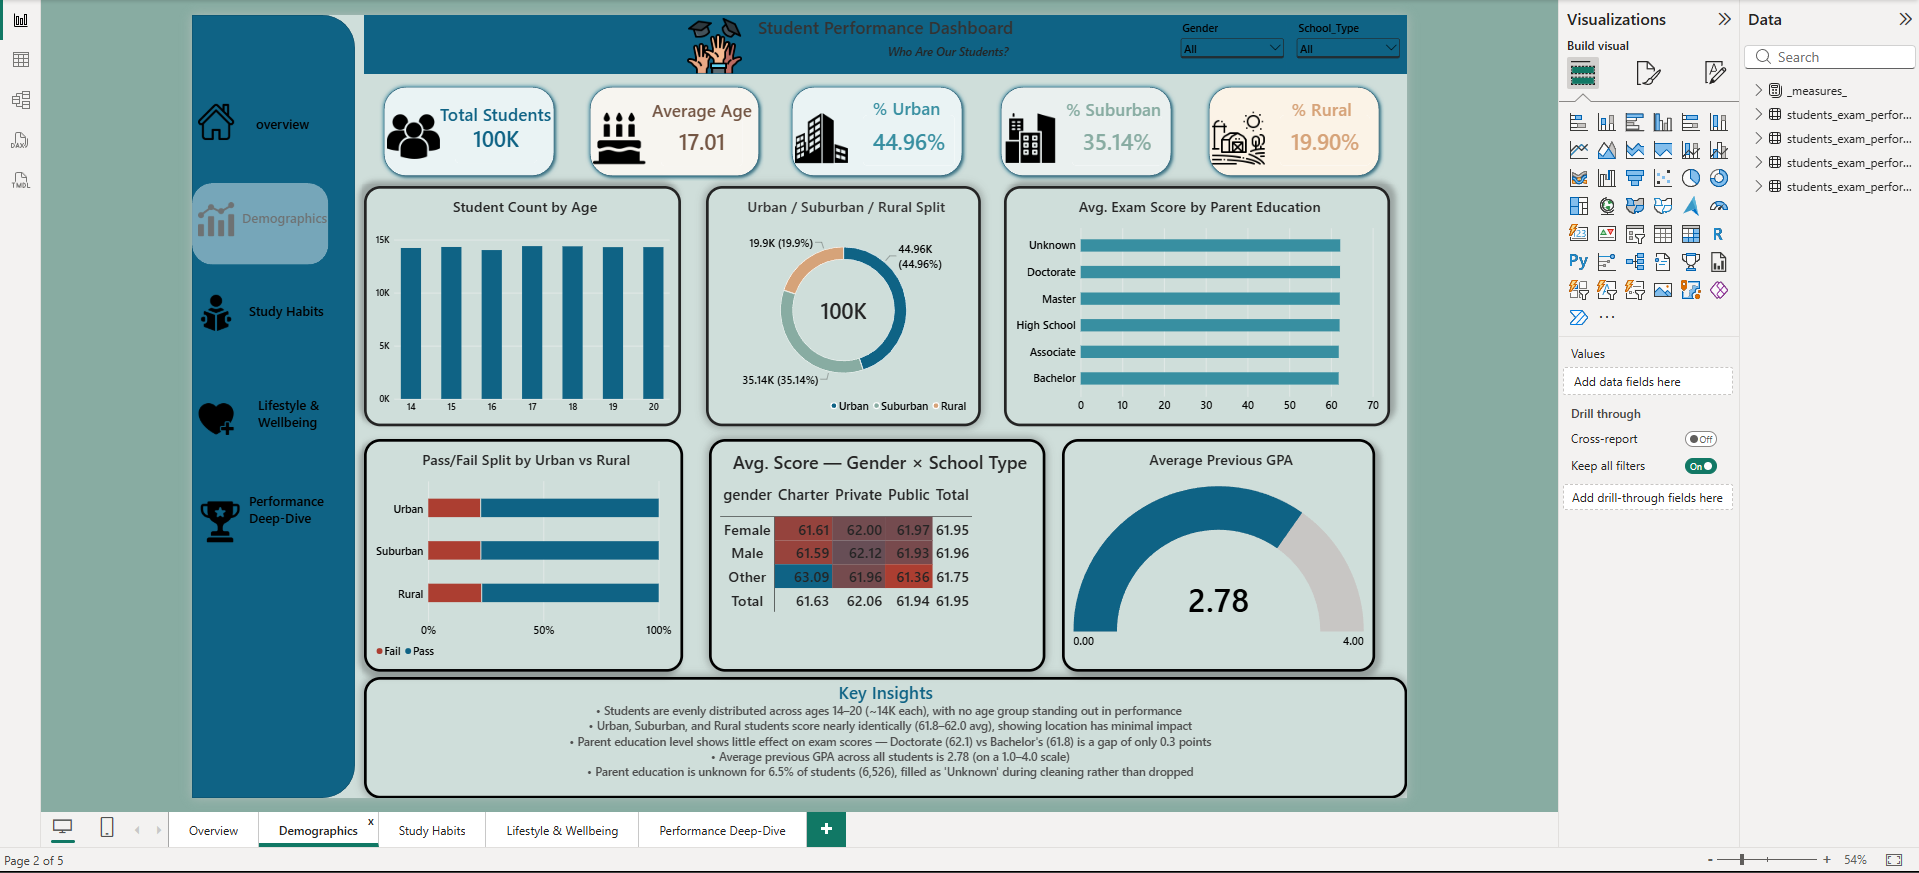

This screenshot's page, from the dashboard's own definition file:
{"tool":"powerbi","page":{"name":"Demographics","canvas":[2250,1450],"ordinal":1},"visuals":[{"type":"shape","box":[0,0,301.7,1450],"z":0,"group":"g1"},{"type":"group","id":"g1","title":"Group 2","box":[0,0,301.7,1450],"z":0,"group":"g8"},{"type":"group","id":"g2","title":"Group 5","box":[318.5,0,1932.3,109.2],"z":0,"group":"g11"},{"type":"image","box":[908.7,3.4,117,105.9],"z":0,"group":"g9"},{"type":"textbox","box":[1157.4,53.9,485.4,48.5],"z":0,"group":"g2"},{"type":"group","id":"g3","title":"Group 7","box":[346.7,123.3,333.5,182.9],"z":0,"group":"g12"},{"type":"shape","box":[346.7,123.3,333.5,182.9],"z":0,"group":"g3"},{"type":"group","id":"g4","title":"Group 7","box":[728.3,123.3,331.1,183.6],"z":0,"group":"g13"},{"type":"shape","box":[728.3,123.3,331.3,183.2],"z":0,"group":"g4"},{"type":"shape","box":[1101.7,123.3,333.5,182.9],"z":0,"group":"g5"},{"type":"group","id":"g5","title":"Group 7","box":[1101.7,123.3,333.5,182.9],"z":0,"group":"g14"},{"type":"group","id":"g6","title":"Group 7","box":[1488.3,123.3,333.5,182.9],"z":0,"group":"g16"},{"type":"shape","box":[1488.3,123.3,333.5,182.9],"z":0,"group":"g6"},{"type":"group","id":"g7","title":"Group 7","box":[1873.3,123.3,333.5,182.9],"z":0,"group":"g15"},{"type":"shape","box":[1873.3,123.3,333.5,182.9],"z":0,"group":"g7"},{"type":"textbox","box":[117,186.1,133.1,54.6],"z":0,"group":"g10"},{"type":"group","id":"g8","title":"Group 3","box":[0,0,301.7,1450],"z":1000},{"type":"textbox","box":[318.5,0,1932.3,92.7],"z":1000,"group":"g9"},{"type":"group","id":"g9","title":"Group 4","box":[318.5,0,1932.3,109.2],"z":1000,"group":"g2"},{"type":"slicer","fields":{"Values":["students_exam_performance dim_students.school_type"]},"box":[2041.2,9.8,201,92.4],"z":1000,"group":"g11"},{"type":"textbox","box":[1227.1,149.1,191.4,50],"z":1000,"group":"g14"},{"type":"textbox","box":[1611.3,150.8,191.4,46.6],"z":1000,"group":"g16"},{"type":"textbox","box":[1996.3,150.8,191.4,46.6],"z":1000,"group":"g15"},{"type":"textbox","box":[852.9,152.7,200,47.8],"z":1000,"group":"g13"},{"type":"shape","box":[9.5,153.5,264.3,141.6],"z":1000,"group":"g8"},{"type":"group","id":"g10","title":"Group 1","box":[10.3,156.2,264.7,836],"z":1000,"group":"g1"},{"type":"image","box":[10.3,156.2,67.3,84.5],"z":1000,"group":"g10"},{"type":"textbox","box":[459.8,159.4,220.7,44.8],"z":1000,"group":"g12"},{"type":"image","box":[362.3,171.1,98.3,106.7],"z":1000,"group":"g3"},{"type":"image","box":[1116.4,175.8,98,104.3],"z":1000,"group":"g5"},{"type":"image","box":[1503,175.8,98,104.3],"z":1000,"group":"g6"},{"type":"image","box":[1888,175.8,98,104.3],"z":1000,"group":"g7"},{"type":"image","box":[742.9,175.9,97.3,104.4],"z":1000,"group":"g4"},{"type":"shape","title":"Active_Highlight","box":[0,311.3,252.6,151.3],"z":1500},{"type":"group","id":"g11","title":"Group 6","box":[318.5,0,1932.3,109.2],"z":2000},{"type":"slicer","fields":{"Values":["students_exam_performance dim_students.gender"]},"box":[1825.8,9.8,201,92.4],"z":2000,"group":"g11"},{"type":"cardVisual","fields":{"Data":["_measures_.Total Students"]},"box":[487.9,180.3,152.8,93.6],"z":2000,"group":"g3"},{"type":"cardVisual","fields":{"Data":["_measures_.Percent Urban"]},"box":[1242.7,185.3,170.7,94.8],"z":2000,"group":"g5"},{"type":"cardVisual","fields":{"Data":["_measures_.Percent Suburban"]},"box":[1628.9,185.3,167.2,94.8],"z":2000,"group":"g6"},{"type":"cardVisual","fields":{"Data":["_measures_.Percent Rural"]},"box":[2013.9,185.3,167.2,94.8],"z":2000,"group":"g7"},{"type":"cardVisual","fields":{"Data":["_measures_.Average Age"]},"box":[868.2,186.6,151.8,93.7],"z":2000,"group":"g4"},{"type":"textbox","box":[92.2,360.4,182.8,52.8],"z":2000,"group":"g10"},{"type":"shape","box":[9.5,508.6,264.3,141.6],"z":2000,"group":"g8"},{"type":"group","id":"g12","title":"Group 8","box":[346.7,123.3,333.8,182.9],"z":3000},{"type":"image","box":[10.3,342.8,67.3,70.4],"z":3000,"group":"g10"},{"type":"shape","box":[10.6,691.5,264.3,141.6],"z":3000,"group":"g8"},{"type":"group","id":"g13","title":"Group 9","box":[728.3,123.3,331.7,183.3],"z":4000},{"type":"image","box":[10.3,499.4,67.3,107.4],"z":4000,"group":"g10"},{"type":"shape","box":[9.5,876.6,264.3,141.6],"z":4000,"group":"g8"},{"type":"group","id":"g14","title":"Group 9","box":[1101.7,123.3,333.3,183.3],"z":5000},{"type":"textbox","box":[105.3,532.8,157.9,40.5],"z":5000,"group":"g10"},{"type":"group","id":"g15","title":"Group 9","box":[1873.3,123.3,335,183.3],"z":6000},{"type":"textbox","box":[121.4,707.1,124.3,98.6],"z":6000,"group":"g10"},{"type":"columnChart","title":"Student Count by Age","fields":{"Category":["students_exam_performance dim_students.age"],"Y":["_measures_.Total Students"]},"box":[318.5,316.9,586.8,445.3],"z":7000},{"type":"image","box":[10.3,691.2,67.3,114.4],"z":7000,"group":"g10"},{"type":"donutChart","title":"Urban / Suburban / Rural Split","fields":{"Category":["students_exam_performance dim_students.urban_rural"],"Y":["CountNonNull(students_exam_performance fact_exam_performance.student_id)"]},"box":[952.3,316.9,509.4,445.3],"z":8000},{"type":"textbox","box":[105.3,883.1,157.9,109.1],"z":8000,"group":"g10"},{"type":"group","id":"g16","title":"Group 9","box":[1488.3,123.3,335,183.3],"z":9000},{"type":"image","box":[10.3,883.1,81.9,109.1],"z":9000,"group":"g10"},{"type":"barChart","title":"Avg. Exam Score by Parent Education","fields":{"Category":["students_exam_performance dim_students.parent_education"],"Y":["_measures_.Average Exam Score"]},"box":[1503.1,316.9,715.1,445.3],"z":10000},{"type":"hundredPercentStackedBarChart","title":"Pass/Fail Split by Urban vs Rural","fields":{"Category":["students_exam_performance dim_students.urban_rural"],"Series":["students_exam_performance fact_exam_performance.pass_status"],"Y":["CountNonNull(students_exam_performance fact_exam_performance.student_id)"]},"box":[318.5,784.6,590.8,430.8],"z":11000},{"type":"pivotTable","title":"Avg. Score — Gender × School Type","fields":{"Columns":["students_exam_performance dim_students.school_type"],"Rows":["students_exam_performance dim_students.gender"],"Values":["_measures_.Average Exam Score"]},"box":[956.9,784.6,623.1,430.8],"z":12000},{"type":"gauge","title":"Average Previous GPA","fields":{"Y":["_measures_.Average Previous GPA"]},"box":[1610.8,784.6,580,430.8],"z":13000},{"type":"textbox","box":[318.5,1226.2,1932.3,224.6],"z":14000}]}

Visuals, with their boxes on the page's 2250x1450 design canvas (x1, y1, x2, y2). These are canvas units, not pixel positions in the 1919x873 screenshot, which may show the page scaled, cropped or inside an application window:
shape: region(0, 0, 302, 1450)
"Group 2" group: region(0, 0, 302, 1450)
"Group 5" group: region(318, 0, 2251, 109)
image: region(909, 3, 1026, 109)
textbox: region(1157, 54, 1643, 102)
"Group 7" group: region(347, 123, 680, 306)
shape: region(347, 123, 680, 306)
"Group 7" group: region(728, 123, 1059, 307)
shape: region(728, 123, 1060, 306)
shape: region(1102, 123, 1435, 306)
"Group 7" group: region(1102, 123, 1435, 306)
"Group 7" group: region(1488, 123, 1822, 306)
shape: region(1488, 123, 1822, 306)
"Group 7" group: region(1873, 123, 2207, 306)
shape: region(1873, 123, 2207, 306)
textbox: region(117, 186, 250, 241)
"Group 3" group: region(0, 0, 302, 1450)
textbox: region(318, 0, 2251, 93)
"Group 4" group: region(318, 0, 2251, 109)
slicer - students_exam_performance dim_students.school_type: region(2041, 10, 2242, 102)
textbox: region(1227, 149, 1418, 199)
textbox: region(1611, 151, 1803, 197)
textbox: region(1996, 151, 2188, 197)
textbox: region(853, 153, 1053, 200)
shape: region(10, 154, 274, 295)
"Group 1" group: region(10, 156, 275, 992)
image: region(10, 156, 78, 241)
textbox: region(460, 159, 680, 204)
image: region(362, 171, 461, 278)
image: region(1116, 176, 1214, 280)
image: region(1503, 176, 1601, 280)
image: region(1888, 176, 1986, 280)
image: region(743, 176, 840, 280)
"Active_Highlight" shape: region(0, 311, 253, 463)
"Group 6" group: region(318, 0, 2251, 109)
slicer - students_exam_performance dim_students.gender: region(1826, 10, 2027, 102)
cardVisual - _measures_.Total Students: region(488, 180, 641, 274)
cardVisual - _measures_.Percent Urban: region(1243, 185, 1413, 280)
cardVisual - _measures_.Percent Suburban: region(1629, 185, 1796, 280)
cardVisual - _measures_.Percent Rural: region(2014, 185, 2181, 280)
cardVisual - _measures_.Average Age: region(868, 187, 1020, 280)
textbox: region(92, 360, 275, 413)
shape: region(10, 509, 274, 650)
"Group 8" group: region(347, 123, 680, 306)
image: region(10, 343, 78, 413)
shape: region(11, 692, 275, 833)
"Group 9" group: region(728, 123, 1060, 307)
image: region(10, 499, 78, 607)
shape: region(10, 877, 274, 1018)
"Group 9" group: region(1102, 123, 1435, 307)
textbox: region(105, 533, 263, 573)
"Group 9" group: region(1873, 123, 2208, 307)
textbox: region(121, 707, 246, 806)
"Student Count by Age" columnChart: region(318, 317, 905, 762)
image: region(10, 691, 78, 806)
"Urban / Suburban / Rural Split" donutChart: region(952, 317, 1462, 762)
textbox: region(105, 883, 263, 992)
"Group 9" group: region(1488, 123, 1823, 307)
image: region(10, 883, 92, 992)
"Avg. Exam Score by Parent Education" barChart: region(1503, 317, 2218, 762)
"Pass/Fail Split by Urban vs Rural" hundredPercentStackedBarChart: region(318, 785, 909, 1215)
"Avg. Score — Gender × School Type" pivotTable: region(957, 785, 1580, 1215)
"Average Previous GPA" gauge: region(1611, 785, 2191, 1215)
textbox: region(318, 1226, 2251, 1451)
